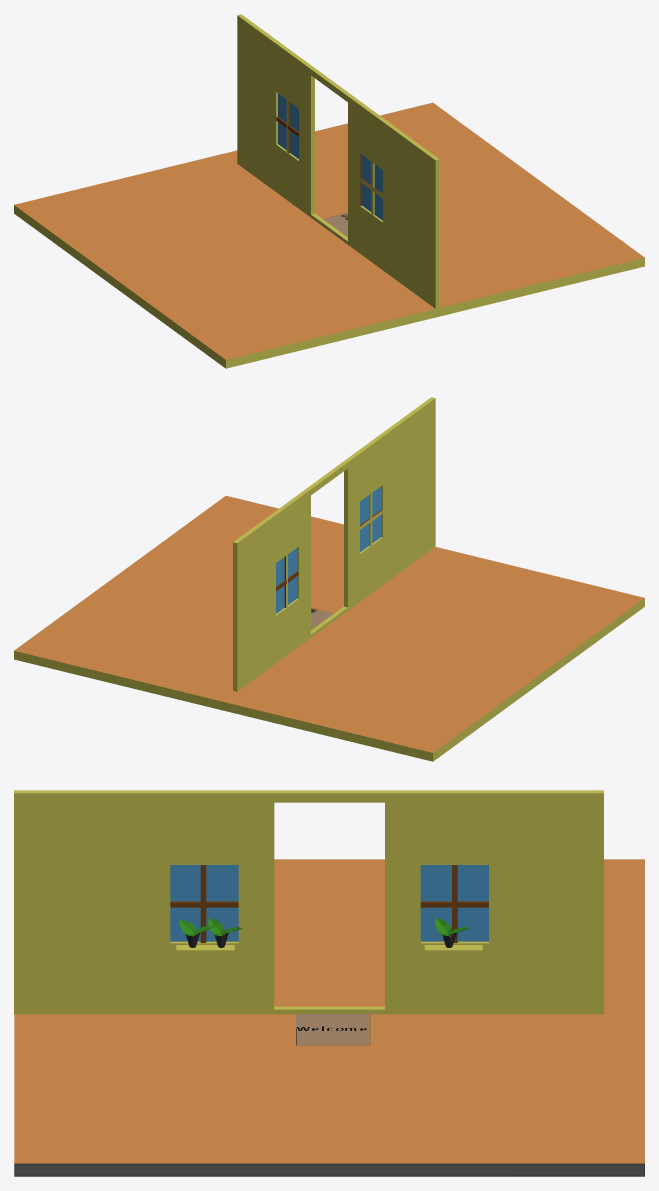
The model's file is Scenery.glb.
3 renders of one model, top to bottom at view 1: azimuth 30°, elevation 25°; view 2: azimuth 150°, elevation 25°; view 3: azimuth 270°, elevation 25°, orthographic. The views are drawn at different scales.
Parts seen in each view (by area): view 1: Cube; view 2: Cube; view 3: Cube.
Part boxes in pixels (box(x1,y1,x2,y2)): Cube: box(14, 14, 644, 368); Cube: box(14, 397, 644, 761); Cube: box(14, 790, 644, 1176).
Bounding box in the file's own units: 10 × 3.59 × 8.76.
1 material, 1 textured.
